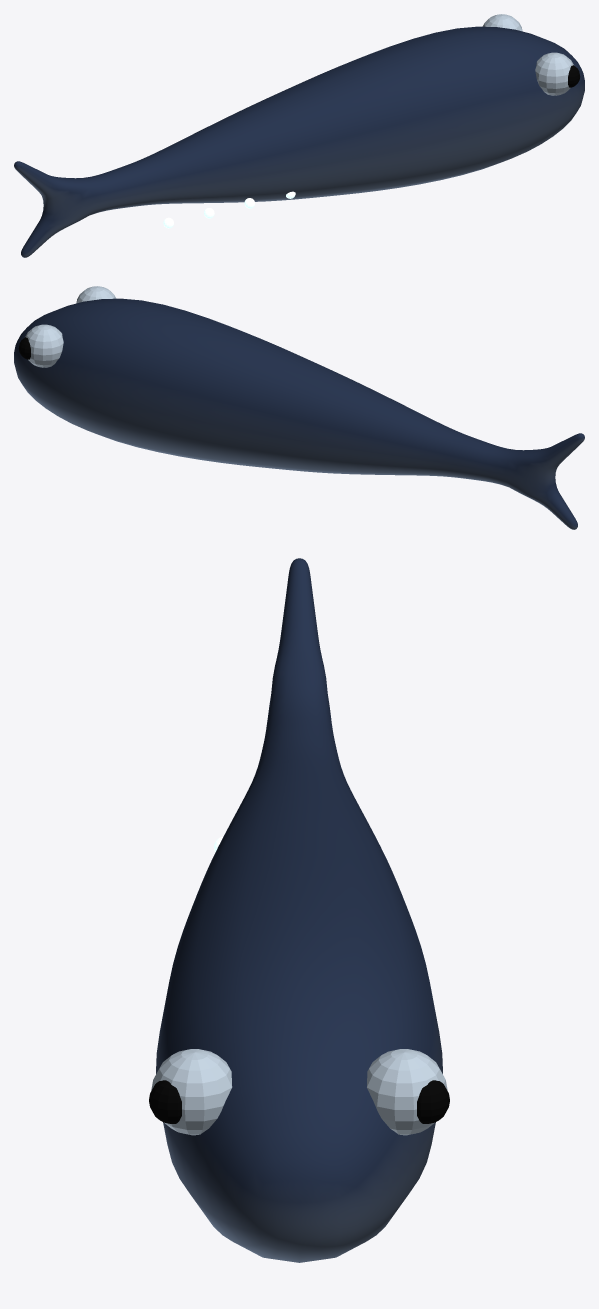
File: peixe_lanterna.glb
The picture shows the model from 3 angles, top to bottom: view 1: azimuth 30°, elevation 25°; view 2: azimuth 150°, elevation 25°; view 3: azimuth 270°, elevation 25°; orthographic projection. The views are drawn at different scales.
Visible parts, largest first — view 1: corpo; view 2: corpo; view 3: corpo.
Part boxes in pixels (<box>): corpo: <box>14,14,584,257</box>; corpo: <box>14,286,584,529</box>; corpo: <box>149,558,449,1262</box>.
Size of the model in its own units: 1.67 by 0.3682 by 0.5571.
